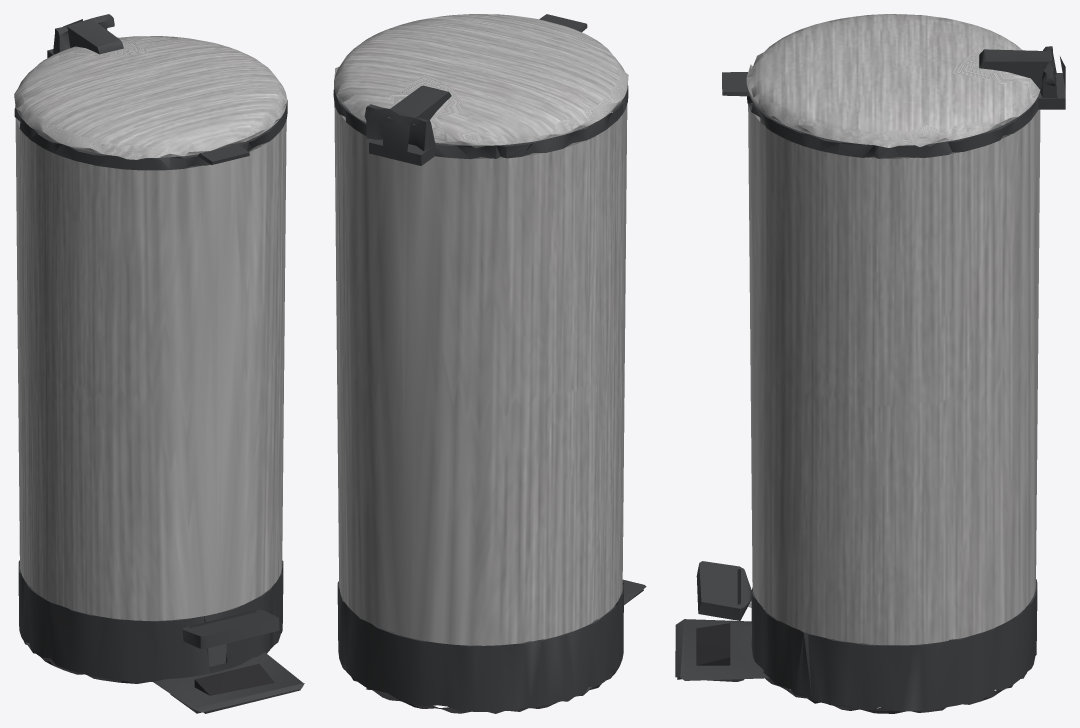
File: simready-bin-pedal.afd1981c.glb
The picture shows the model from 3 angles, left to right: view 1: azimuth 30°, elevation 25°; view 2: azimuth 150°, elevation 25°; view 3: azimuth 270°, elevation 25°; orthographic projection. The views are drawn at different scales.
Visible parts, largest first — view 1: model; view 2: model; view 3: model.
Part boxes in pixels (x1,y1,x2,y2): model: (14,14,304,713); model: (333,14,646,713); model: (675,14,1065,713).
Bounding box in the file's own units: 0.2923 × 0.6542 × 0.3866.
Materials: 5 (2 with a texture image).
